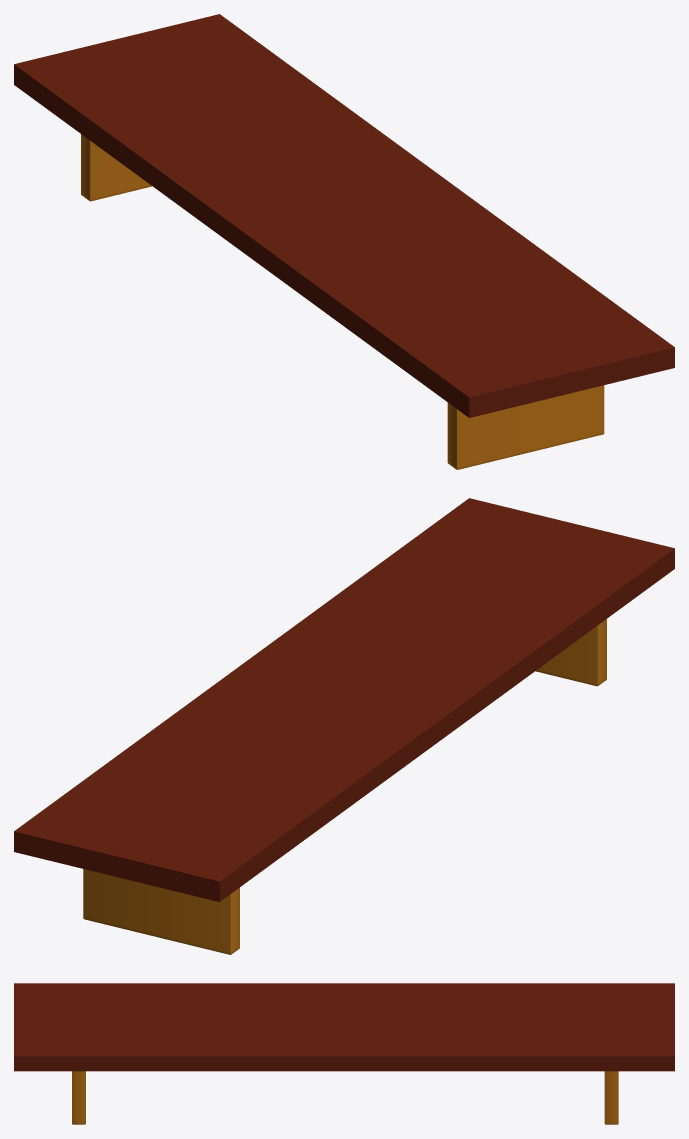
Rendered from Bankwood.fbx.
3 renders of one model, top to bottom at view 1: azimuth 30°, elevation 25°; view 2: azimuth 150°, elevation 25°; view 3: azimuth 270°, elevation 25°, orthographic. The views are drawn at different scales.
Parts seen in each view (by area): view 1: Box026, Box028; view 2: Box026, Box028; view 3: Box026, Box028.
Part boxes in pixels (box(x1,y1,x2,y2)): Box026: box(14, 14, 674, 417); Box028: box(81, 134, 604, 469); Box026: box(14, 498, 674, 901); Box028: box(83, 619, 606, 954); Box026: box(14, 983, 674, 1071); Box028: box(72, 1071, 618, 1124).
Bounding box in the file's own units: 41.08 × 20.82 × 157.
